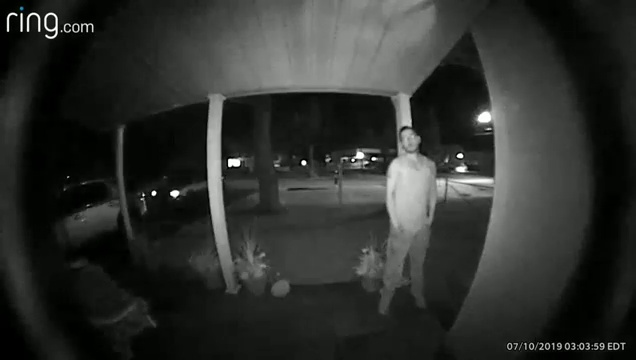face: (400, 133, 418, 151)
